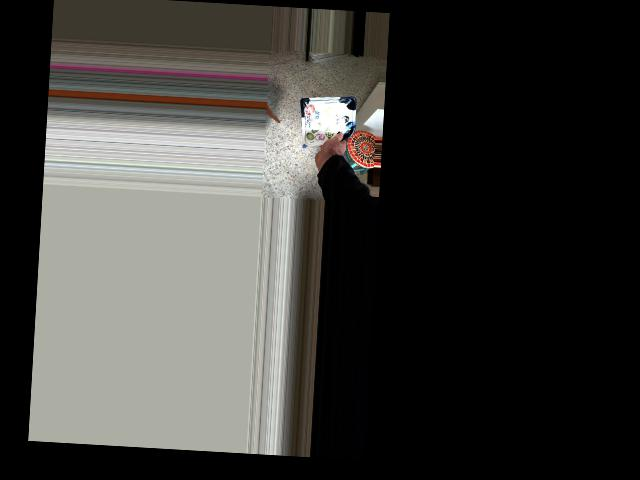cheese: (298, 105, 357, 169)
